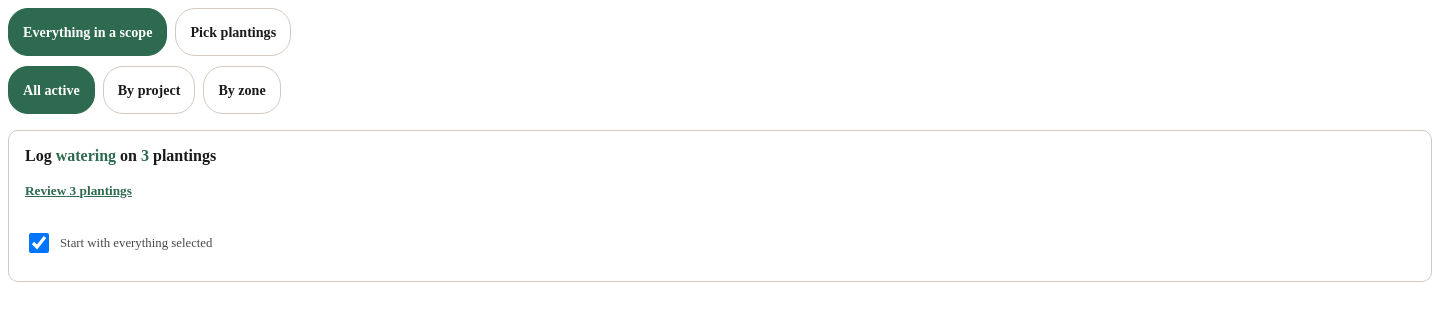
Test case: ScopeChecklist — net count (set difference shown, never computed by the user) › "Start with everything selected" unchecked excludes all → 0 will be logged
The width and height of the screenshot is (1440, 323).
Step 1. Click the checkbox labelled "Start with everything selected" → {"x": 39, "y": 243}, box top-left (29, 233), bottom-right (49, 253)
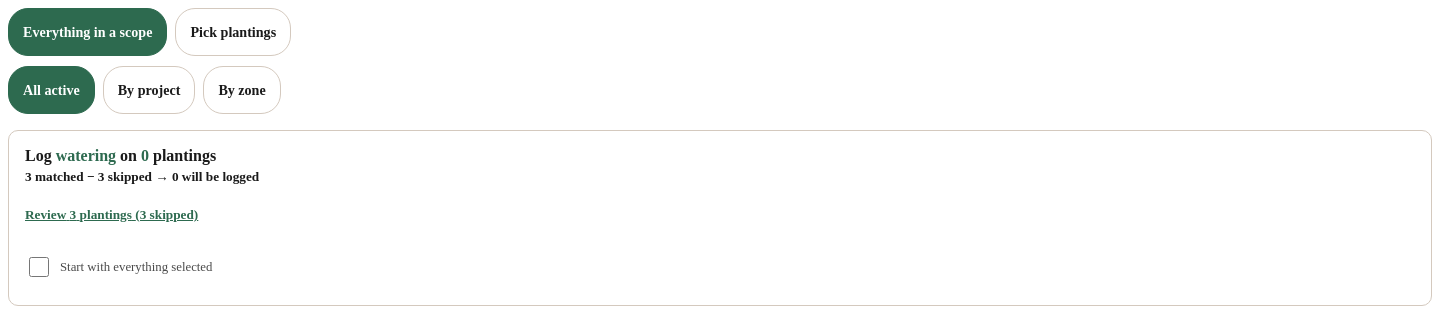
Now the text with test id "net-count" reads "3 matched − 3 skipped → 0 will be logged", box top-left (25, 169), bottom-right (259, 184)
